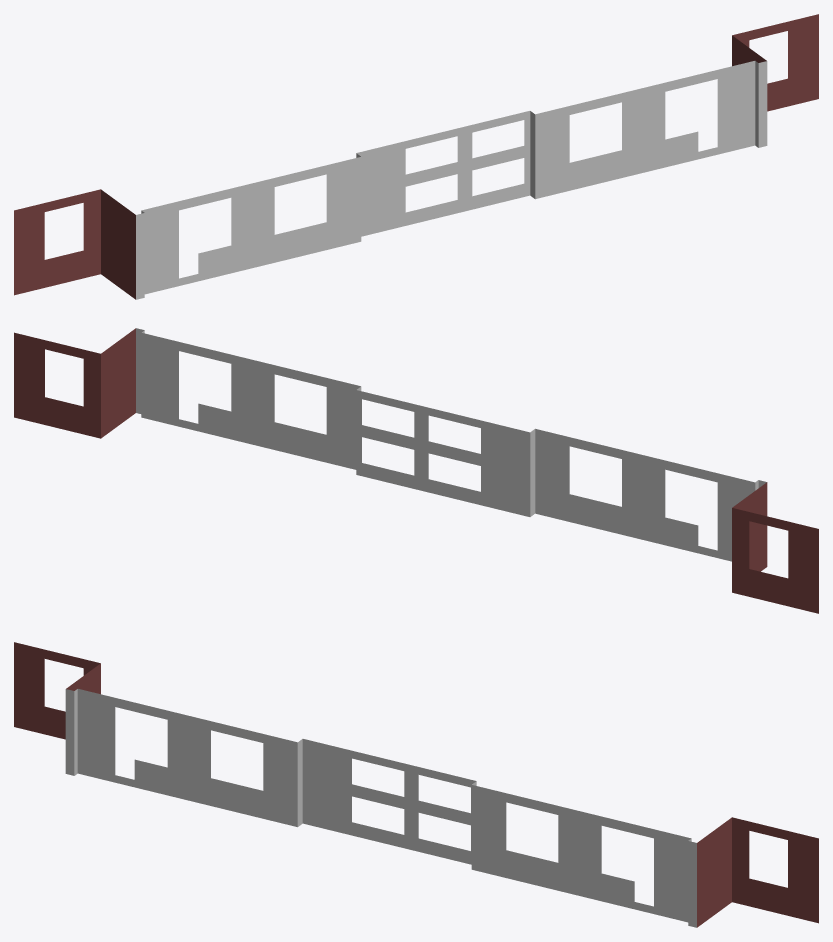
Rendered from p3-floor-second-front.fbx.
The picture shows the model from 3 angles, top to bottom: view 1: azimuth 30°, elevation 25°; view 2: azimuth 150°, elevation 25°; view 3: azimuth 330°, elevation 25°; orthographic projection.
Visible parts, largest first — view 1: floor-second-front.001; view 2: floor-second-front.001; view 3: floor-second-front.001.
Part boxes in pixels (x1,y1,x2,y2): floor-second-front.001: (14,14,818,299); floor-second-front.001: (14,328,818,613); floor-second-front.001: (14,642,818,927).
Bounding box in the file's own units: 2779 × 280 × 210.
